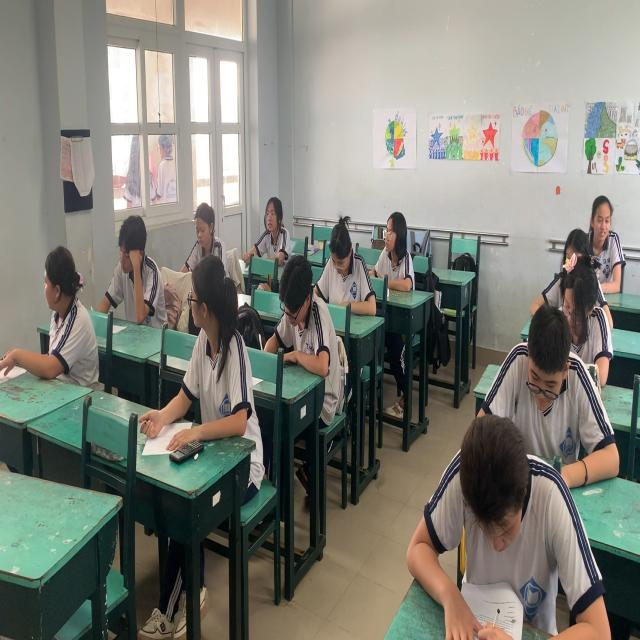cheating: (170, 256, 258, 455)
not_cheating: (422, 414, 576, 640), (496, 300, 586, 460), (32, 238, 97, 383), (321, 197, 376, 321), (276, 259, 329, 379), (104, 203, 156, 324), (558, 248, 605, 372), (582, 192, 628, 299), (378, 186, 414, 272), (253, 194, 288, 272), (185, 194, 224, 262)
